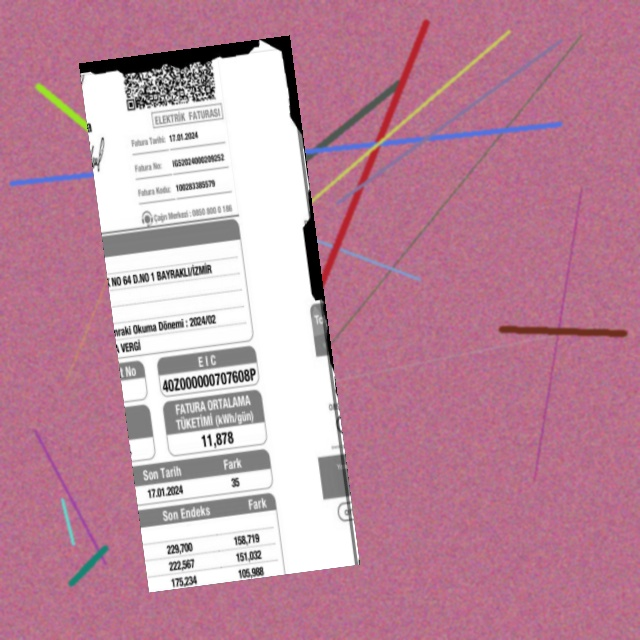electricity-bill: (78, 35, 359, 593)
